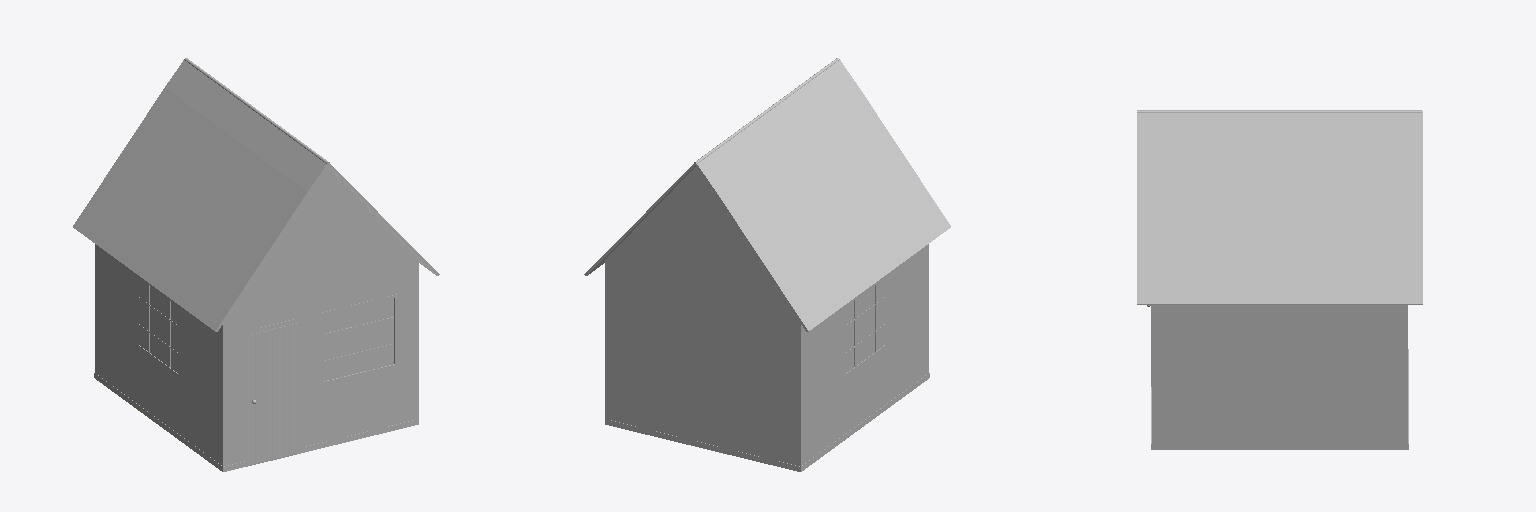
The model's file is CasaSimples.obj.
The picture shows the model from 3 angles: view 1: azimuth 30°, elevation 25°; view 2: azimuth 150°, elevation 25°; view 3: azimuth 270°, elevation 25°; orthographic projection.
Parts seen in each view (by area): view 1: Casa_Cube.003; view 2: Casa_Cube.003; view 3: Casa_Cube.003.
Part boxes in pixels (left/top/right/bottom): Casa_Cube.003: left=73, top=58, right=439, bottom=471; Casa_Cube.003: left=584, top=58, right=950, bottom=471; Casa_Cube.003: left=1137, top=110, right=1422, bottom=449.
Bounding box in the file's own units: 7.28 × 9.05 × 8.03.